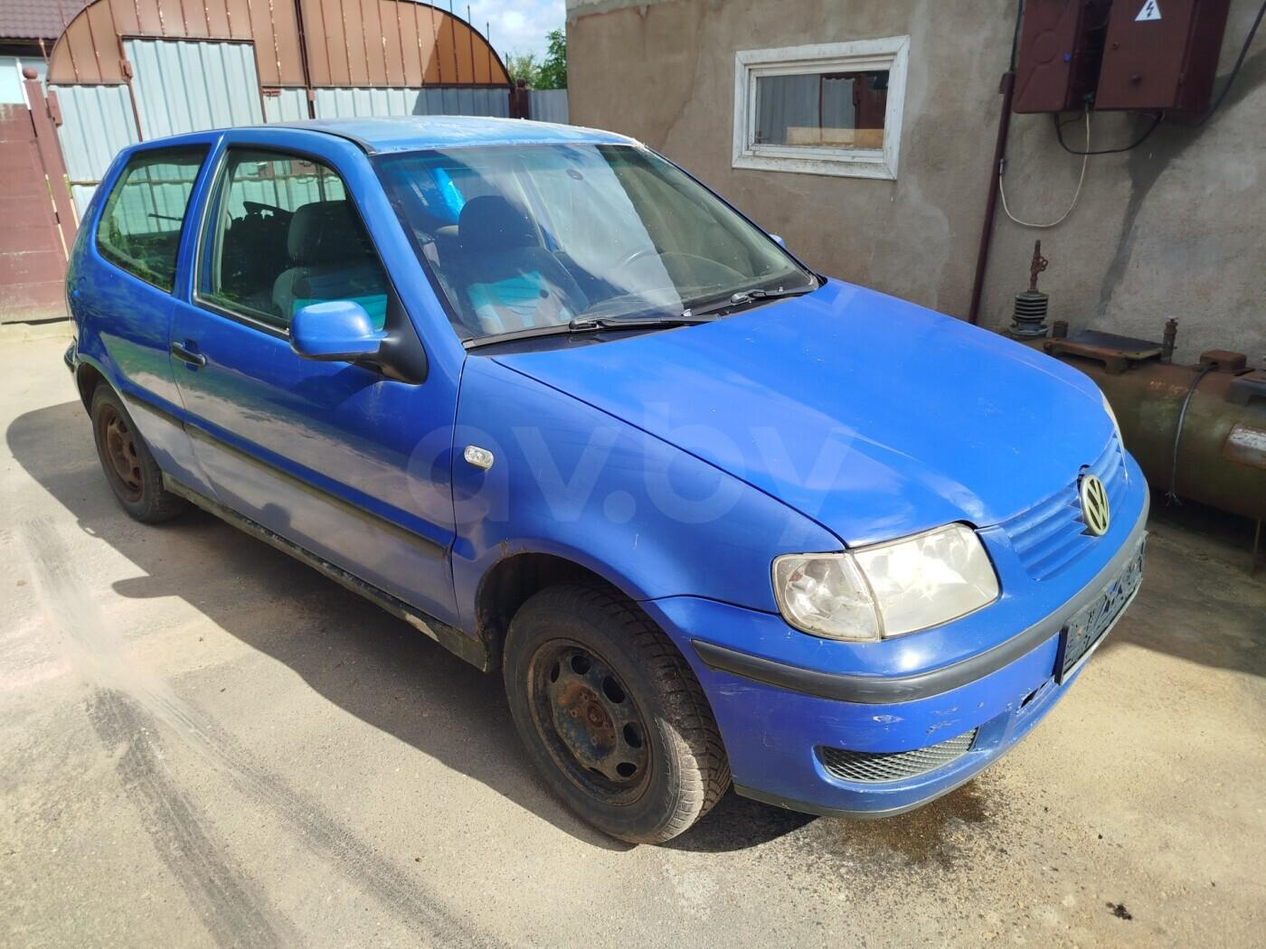Polo_2000-2002: (61, 102, 1161, 833)
